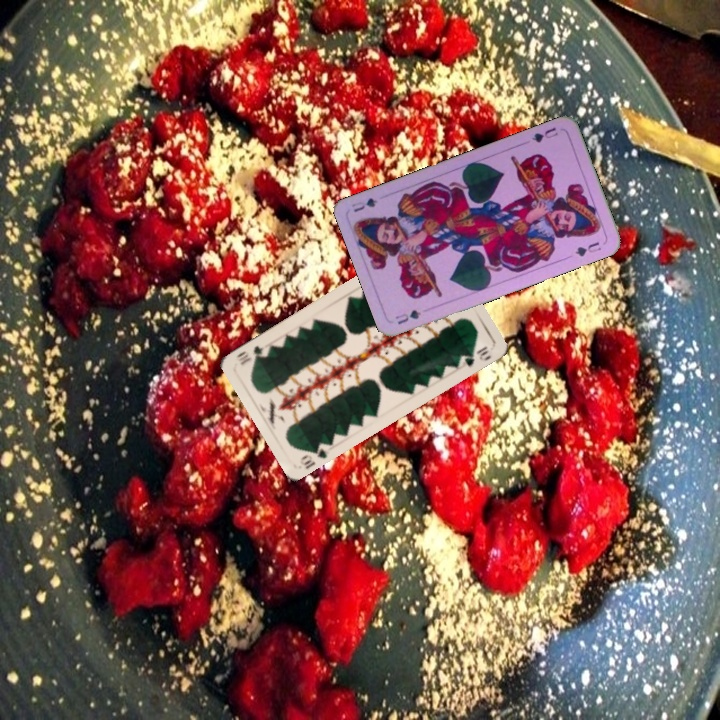G10: (296, 439, 330, 472)
GU: (528, 123, 560, 145), (391, 306, 424, 327)
